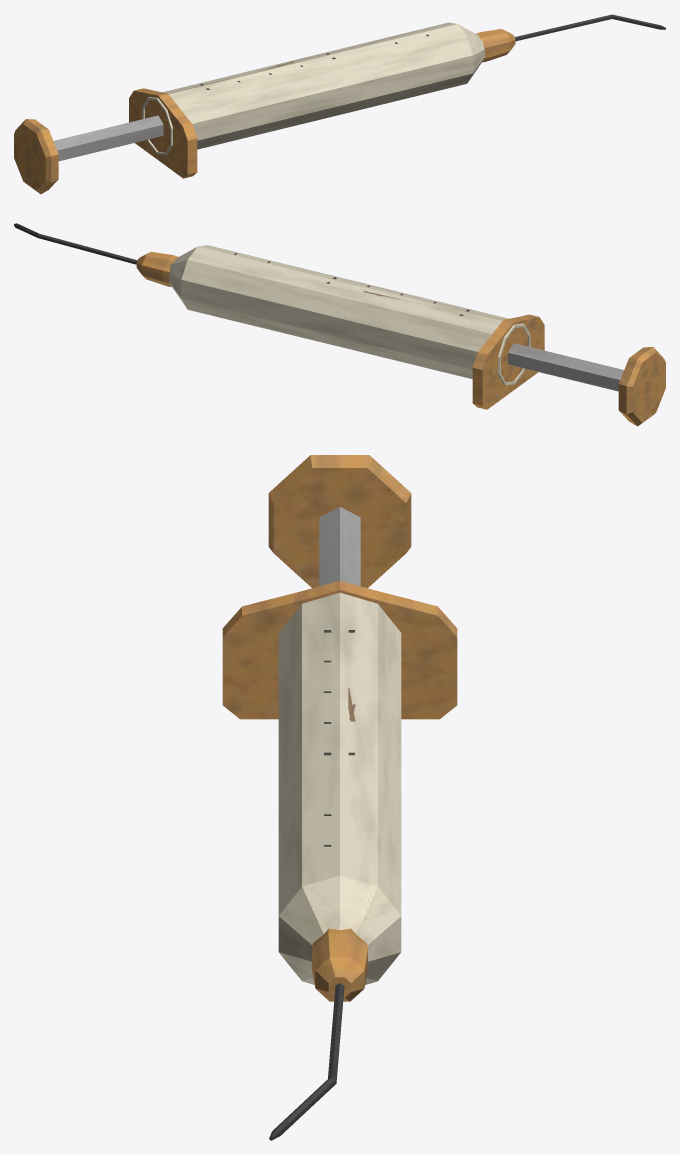
File: HE01_old_syringes_v2.glb
3 renders of one model, top to bottom at view 1: azimuth 30°, elevation 25°; view 2: azimuth 150°, elevation 25°; view 3: azimuth 270°, elevation 25°, orthographic. The views are drawn at different scales.
Visible parts, largest first — view 1: Barrel wall and open rear rim; view 2: Barrel wall and open rear rim; view 3: Barrel wall and open rear rim.
Part boxes in pixels (x1=…): Barrel wall and open rear rim: x1=14, y1=14, x2=665, y2=194; Barrel wall and open rear rim: x1=14, y1=223, x2=665, y2=426; Barrel wall and open rear rim: x1=222, y1=455, x2=457, y2=1140.
Bounding box in the file's own units: 0.15 × 0.0154 × 0.0247.
7 materials, 7 textured.
